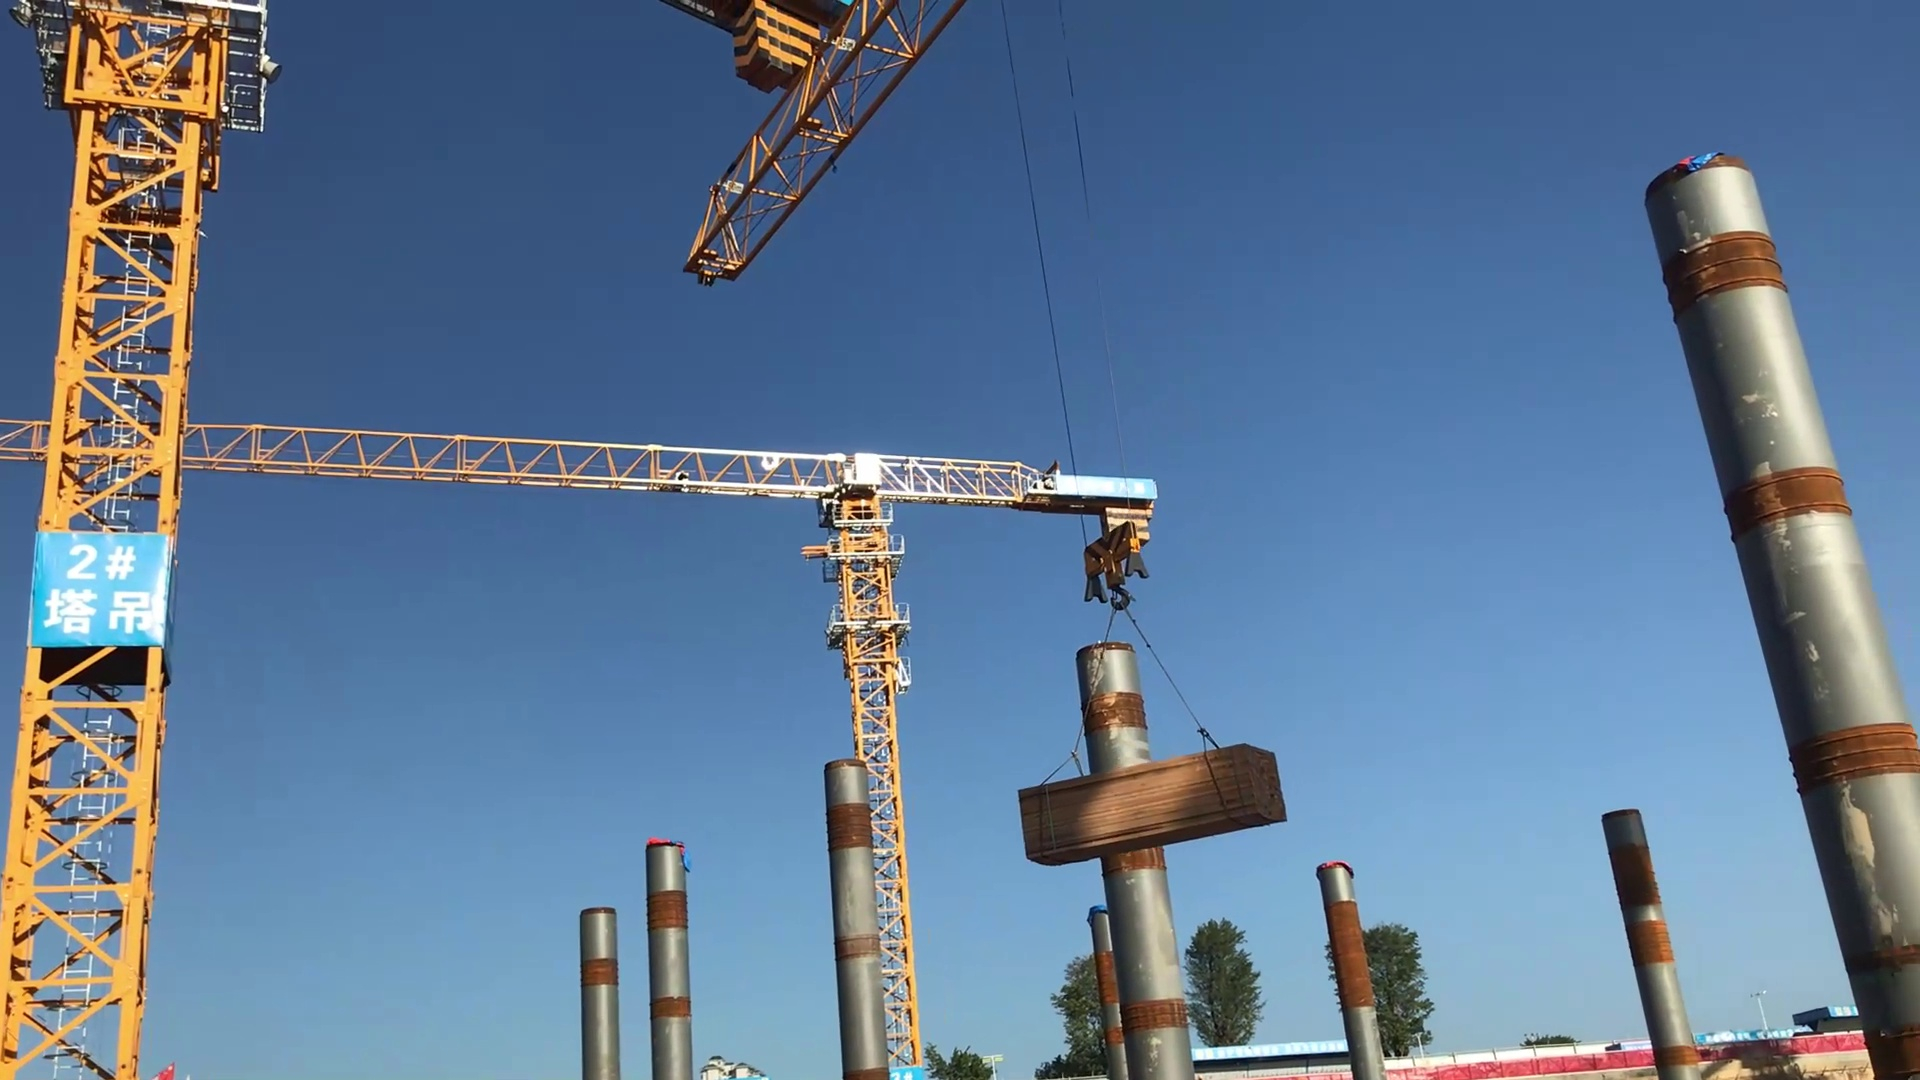hook: (1065, 516, 1167, 608)
wood: (992, 731, 1292, 866)
